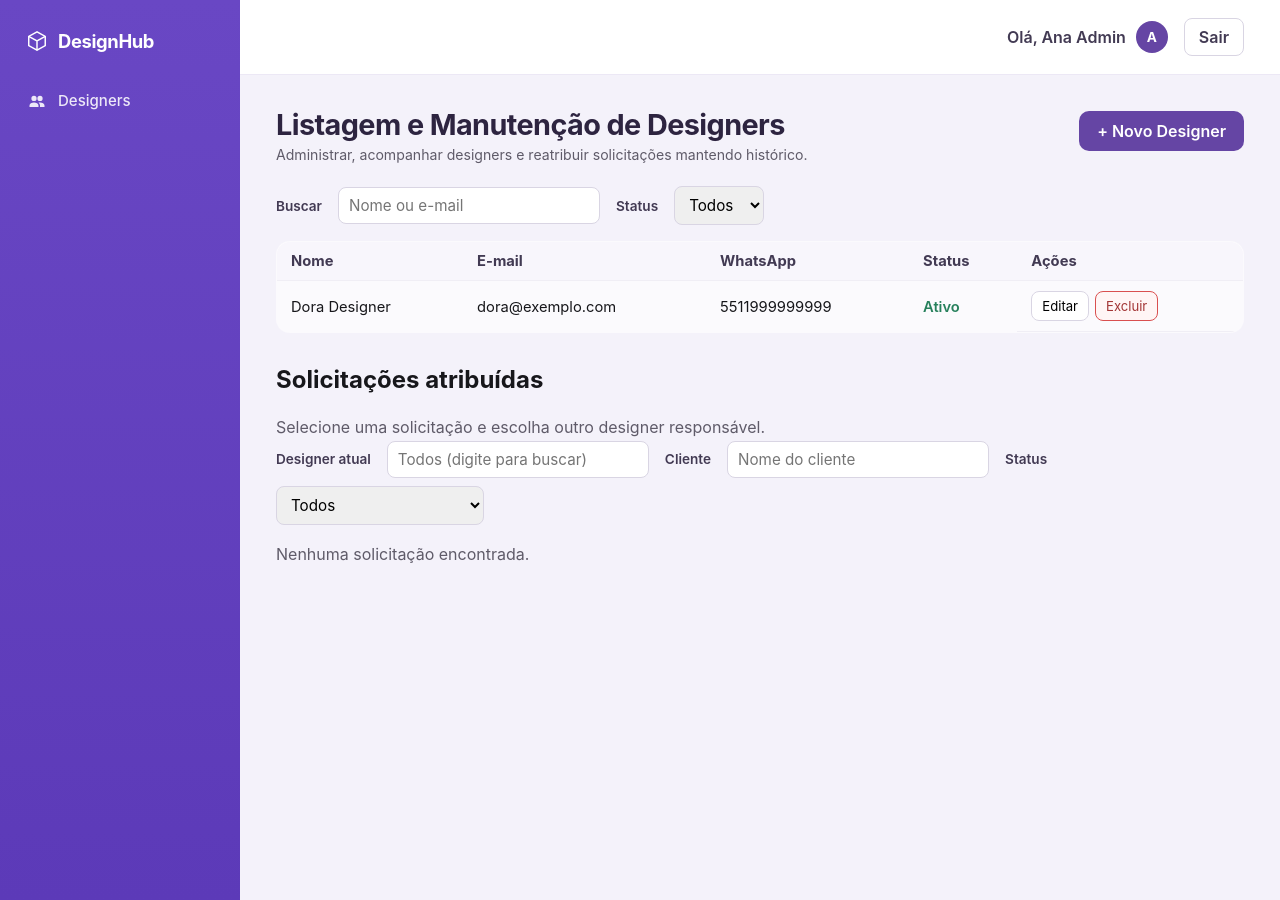
DesignersPage (RF001/RF015) › exclusão (inativação) com erro do backend mostra a mensagem retornada
Expected: the cell "Dora Designer" is shown, [276,281,463,333]
Click the button "Excluir".
click(1127, 306)  # box [1095,291,1158,321]
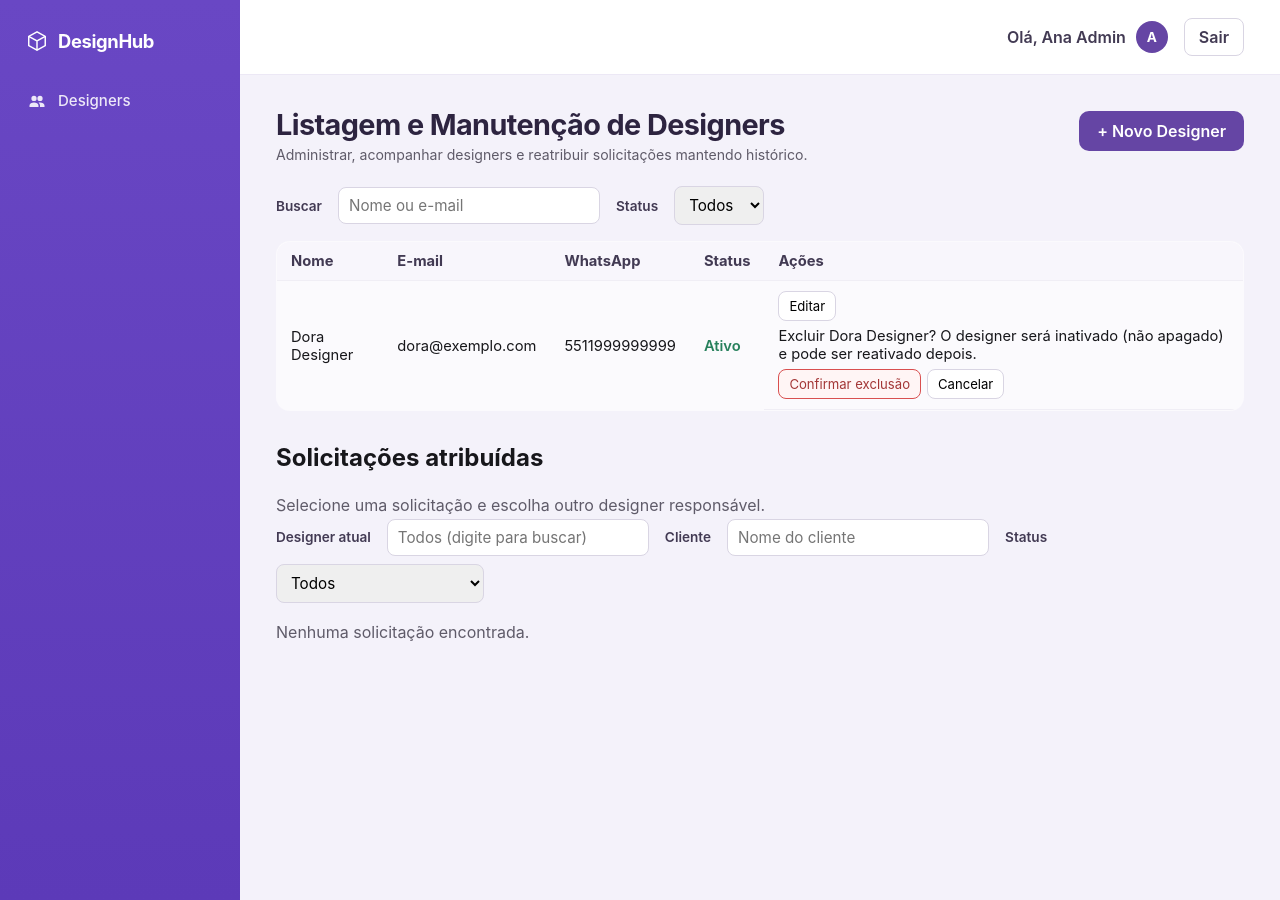
Click the button "Confirmar exclusão".
click(850, 384)  # box [778,369,921,399]
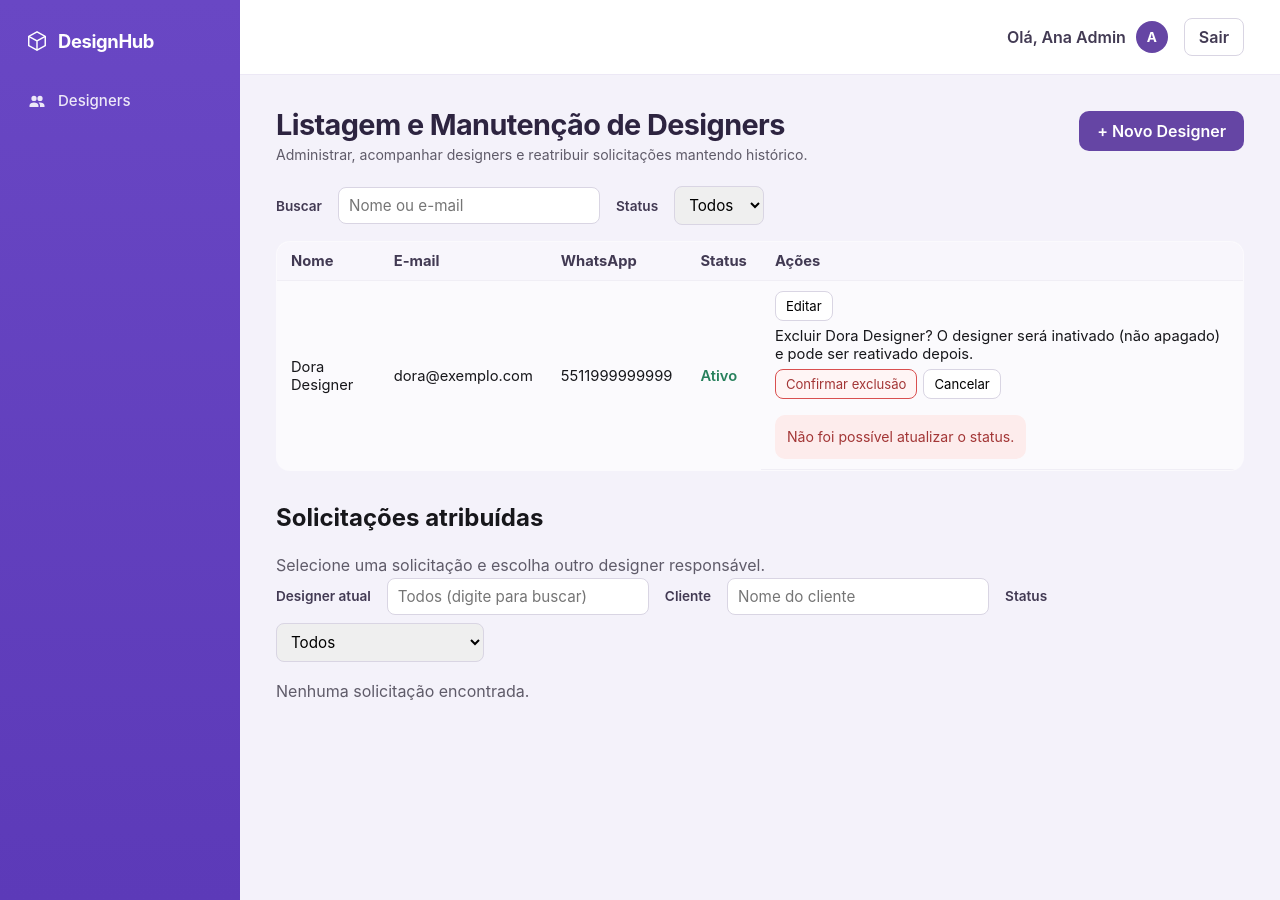
Expected: the text "Não foi possível atualizar o status." is shown, [775,415,1026,459]
